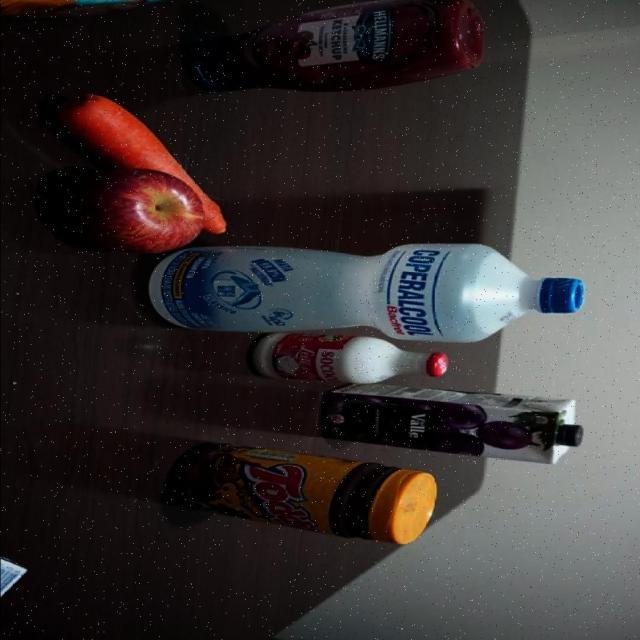AlcoholBottle: (146, 239, 585, 342)
Apple: (67, 169, 204, 255)
Carrot: (48, 92, 177, 169)
ChocolatePowder: (165, 444, 437, 546)
CoconutMilk: (244, 332, 452, 384)
Cracker: (1, 0, 181, 20)
Ketchup: (183, 0, 485, 96)
Toothpaste: (0, 546, 37, 611)
